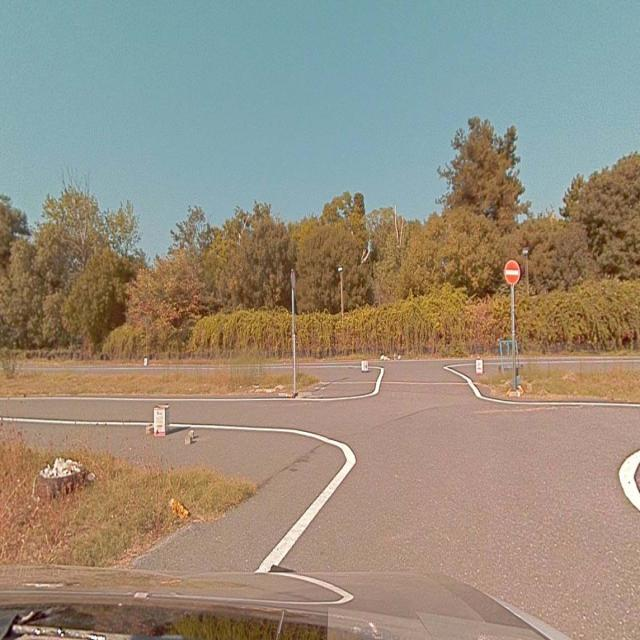girisyok: (504, 260, 520, 285)
